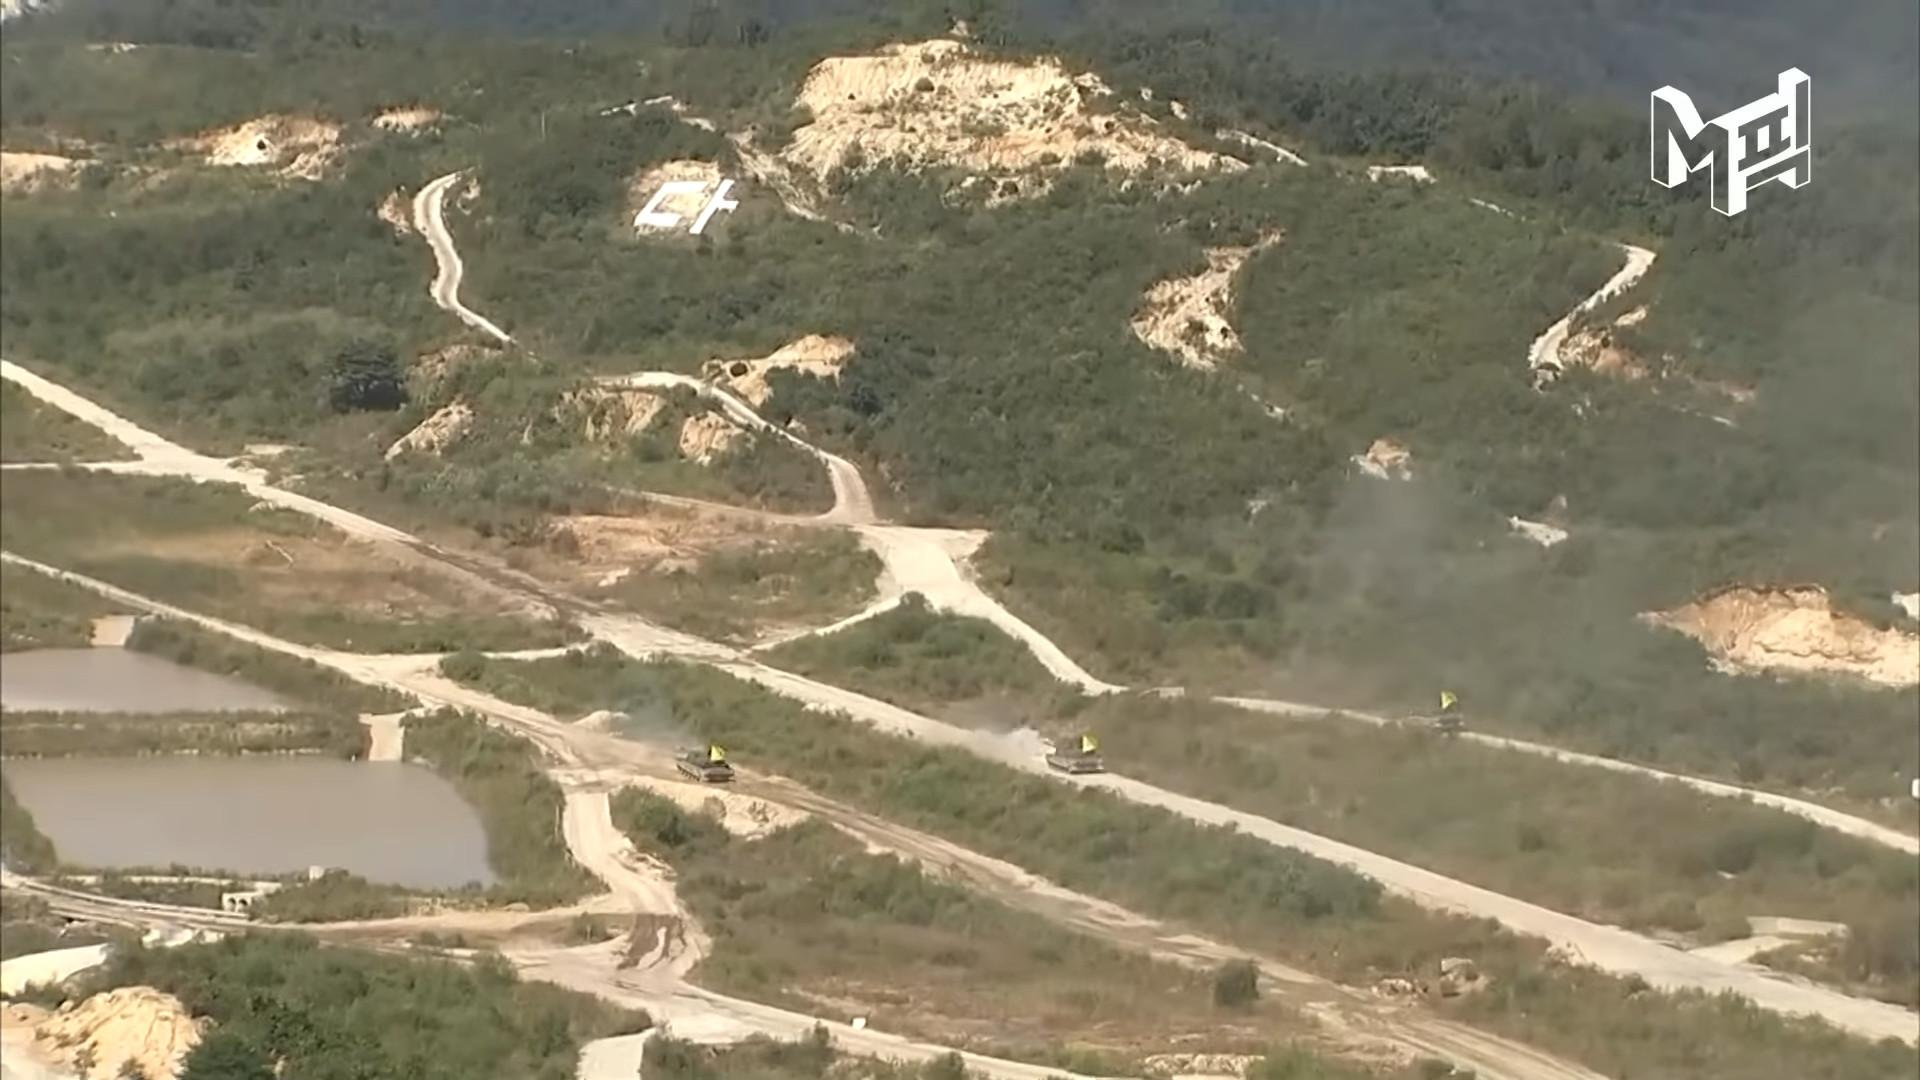tank: (1042, 737, 1105, 773), (675, 746, 733, 782)
